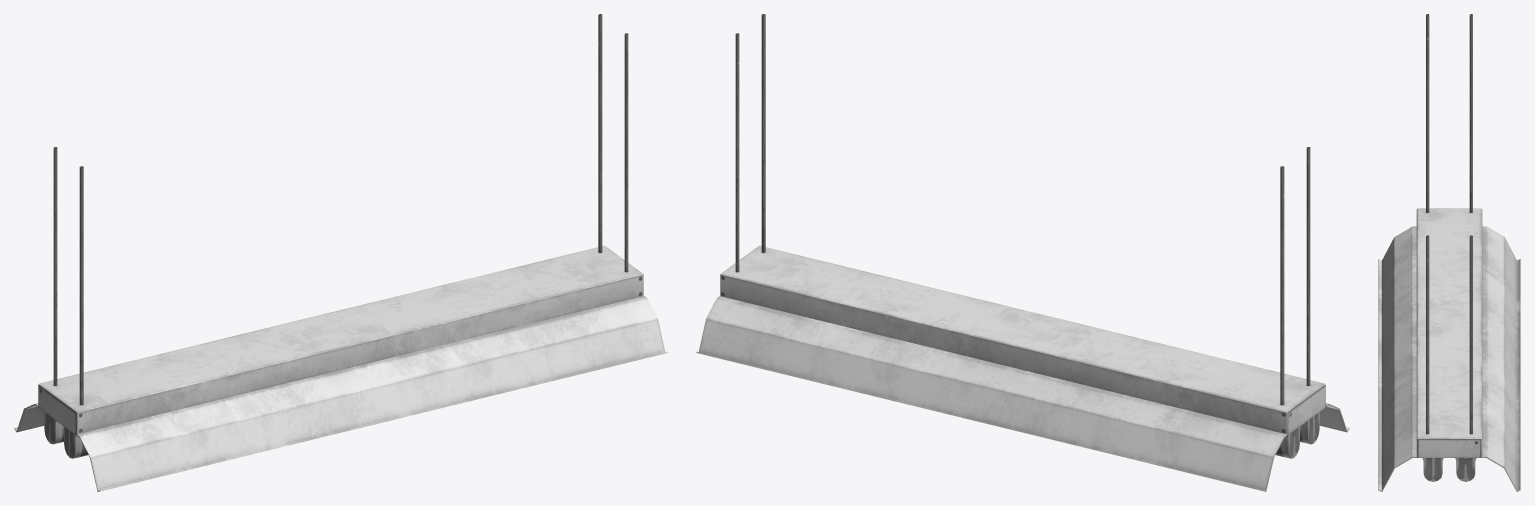
Rendered from IndustrialLight_01 1.FBX.
3 views of the same model, side by side, from view 1: azimuth 30°, elevation 25°; view 2: azimuth 150°, elevation 25°; view 3: azimuth 270°, elevation 25° (orthographic). The views are drawn at different scales.
Visible parts, largest first — view 1: IndustrialLight_01; view 2: IndustrialLight_01; view 3: IndustrialLight_01.
Boxes of the visible parts, x1,y1,x2,y2 form: IndustrialLight_01: (14, 14, 667, 491); IndustrialLight_01: (696, 14, 1349, 491); IndustrialLight_01: (1378, 14, 1520, 491).
Bounding box in the file's own units: 100 × 50.85 × 26.15.
Materials: 1 (1 with a texture image).
